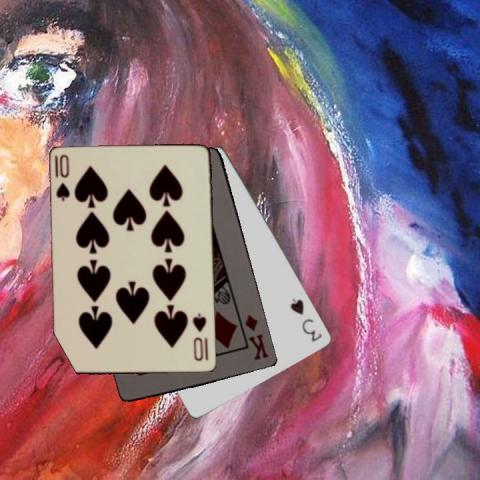10s: (190, 312, 208, 364), (54, 151, 72, 203)
3s: (287, 296, 324, 344)
Kd: (242, 311, 270, 362)
